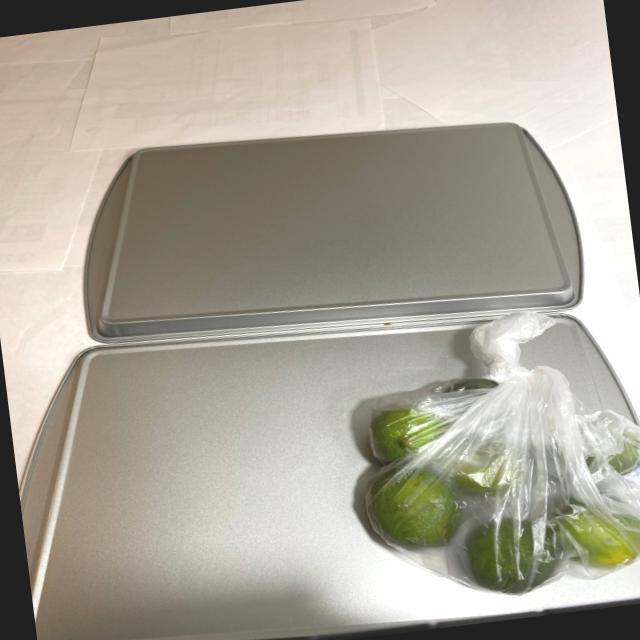lemon: (337, 345, 640, 613)
